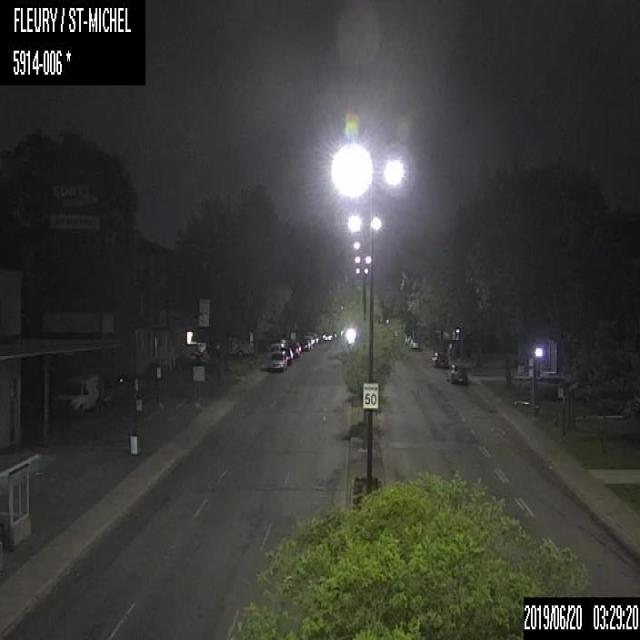vehicle: (48, 370, 109, 419), (227, 336, 254, 356), (267, 349, 287, 374), (428, 348, 447, 367), (448, 367, 467, 382), (278, 345, 293, 364), (407, 336, 421, 349)
